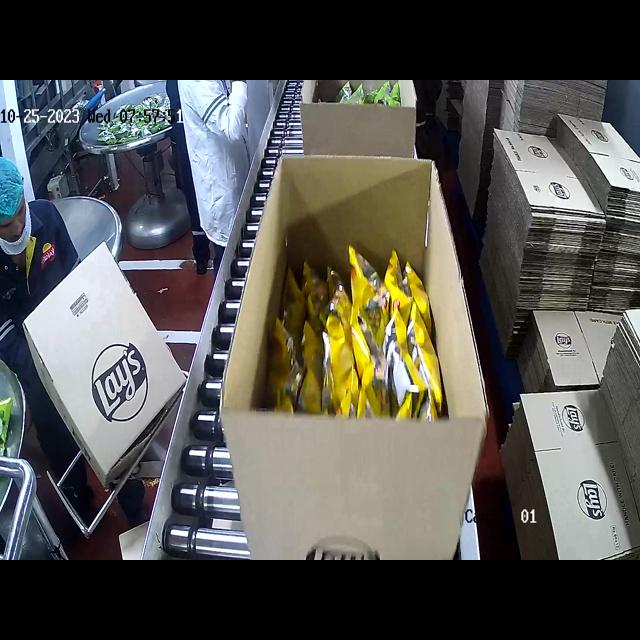salted: (299, 237, 440, 420)
yogurt: (328, 80, 407, 109)
